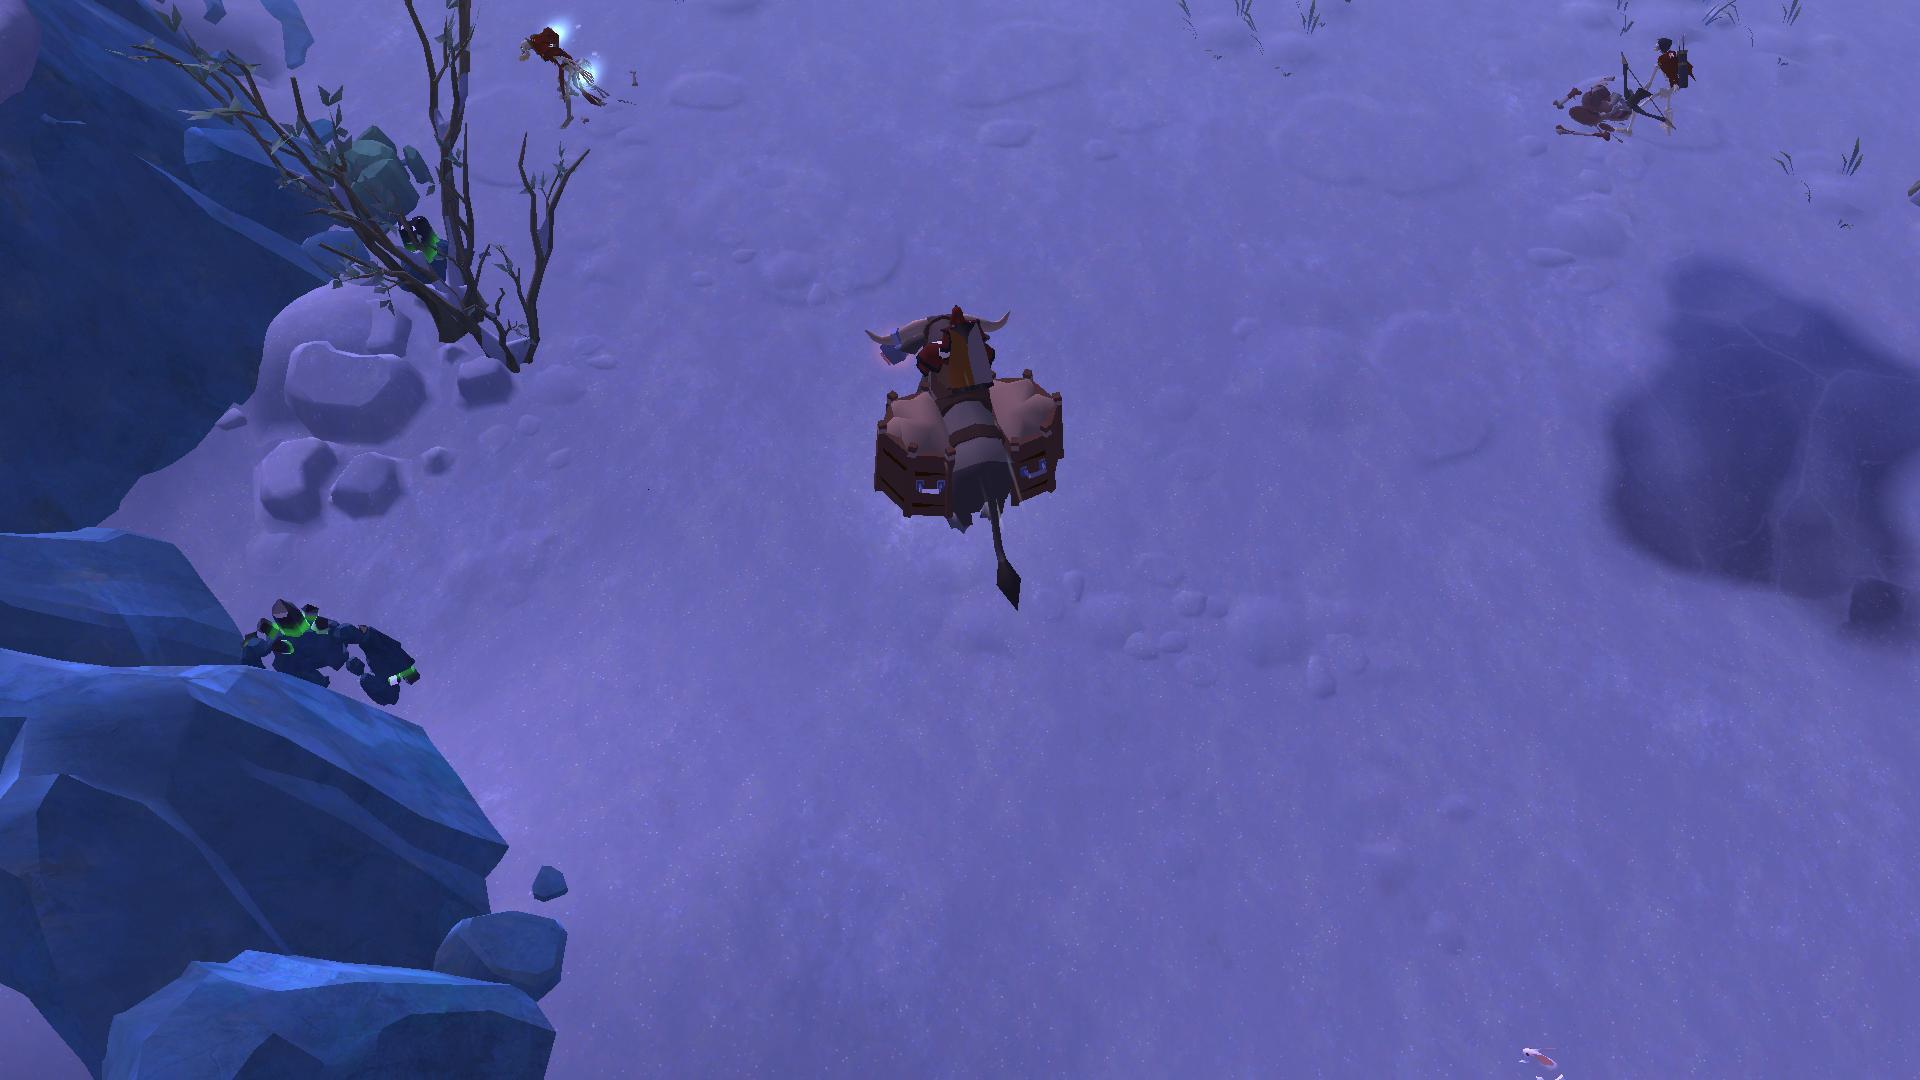enemy_factionUndead: (516, 16, 605, 128), (1622, 30, 1696, 142)
ore_t3: (386, 212, 436, 265)
rock_t3: (302, 120, 431, 228)
